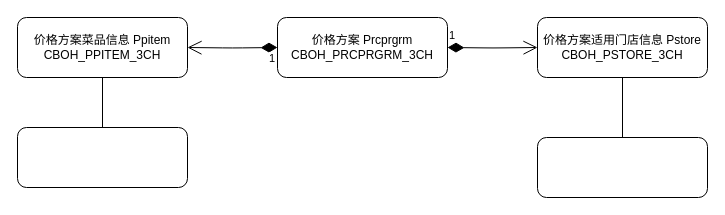
The diagram is 725 pixels wide and 215 high, and some of its shapes have lost their labels. The centre of each missing label's shape, as x and y in pixels:
"菜品 PubItem CBOH_PUBITEM_3CH" goes at (x=102, y=157).
"门店 Store CBOH_STORE_3CH" goes at (x=622, y=167).
